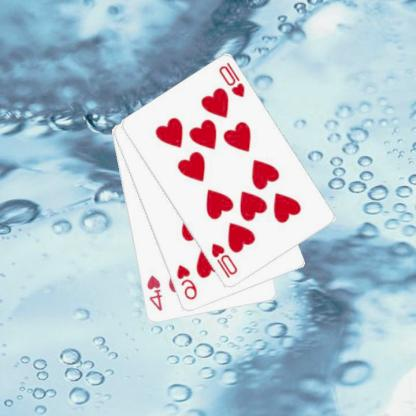10H: (217, 60, 248, 99), (210, 240, 240, 280)
4H: (146, 272, 165, 312)
9H: (175, 262, 200, 302)
